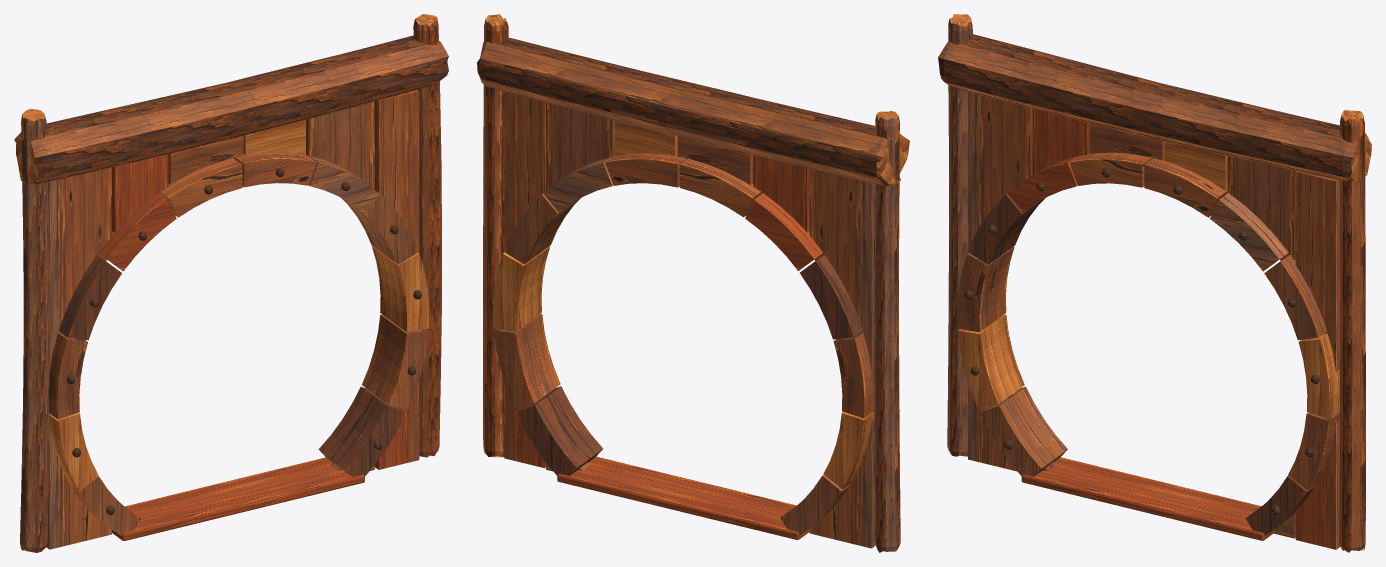
The model's file is doorway__plank_root.glb.
The picture shows the model from 3 angles, left to right: view 1: azimuth 30°, elevation 25°; view 2: azimuth 150°, elevation 25°; view 3: azimuth 330°, elevation 25°; orthographic projection.
Parts seen in each view (by area): view 1: model; view 2: model; view 3: model.
Part boxes in pixels (x1=…): model: x1=14, y1=14, x2=448, y2=552; model: x1=477, y1=14, x2=909, y2=552; model: x1=938, y1=14, x2=1371, y2=552.
Size of the model in its own units: 1.99 by 2 by 0.257.
Materials: 15 (15 with a texture image).
